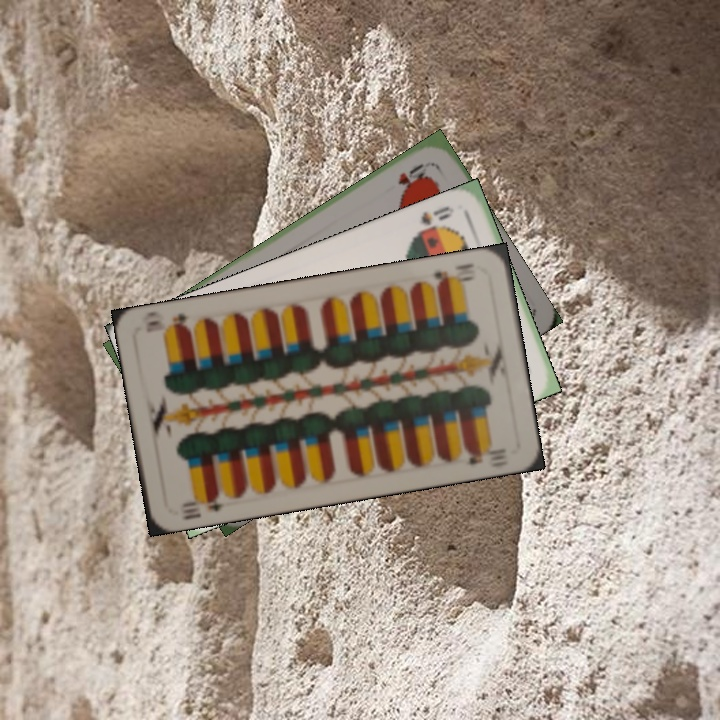E10: (430, 259, 476, 289), (178, 488, 226, 514)
HO: (394, 159, 428, 194)
SO: (416, 202, 457, 228)
